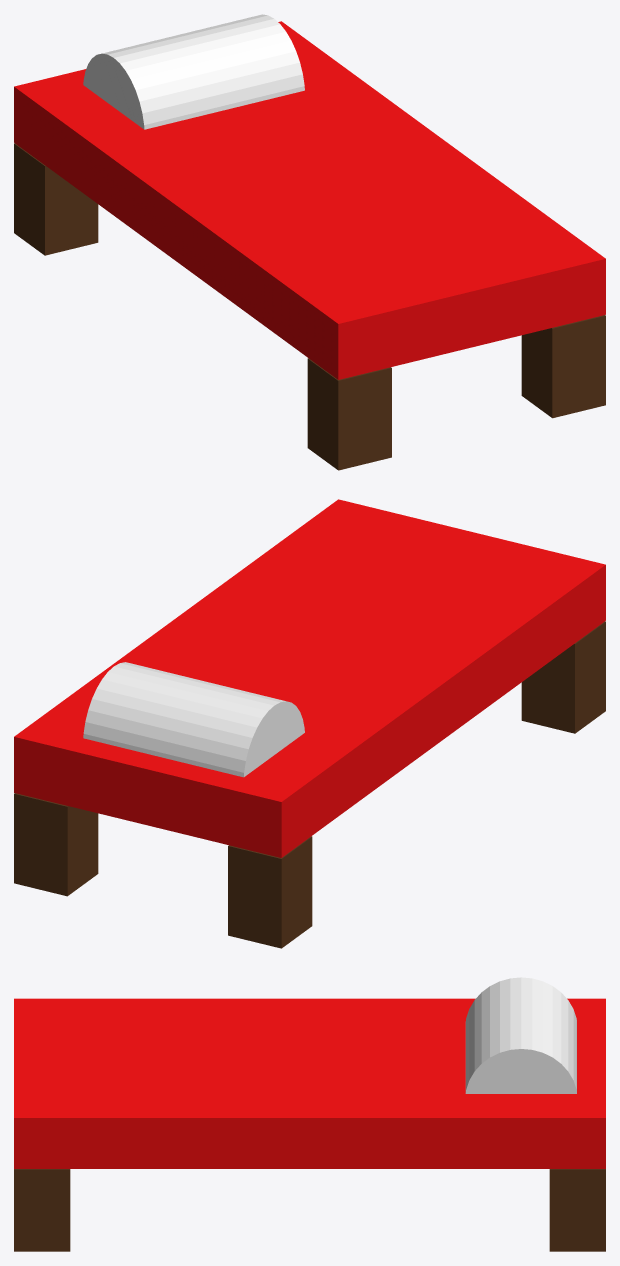
The model's file is House_Interior.gltf.
3 renders of one model, top to bottom at view 1: azimuth 30°, elevation 25°; view 2: azimuth 150°, elevation 25°; view 3: azimuth 270°, elevation 25°, orthographic. The views are drawn at different scales.
Parts seen in each view (by area): view 1: Matress, BedLegs, Pillow; view 2: Matress, BedLegs, Pillow; view 3: Matress, Pillow, BedLegs.
Part boxes in pixels (box(x1,y1,x2,y2)): Matress: box(14, 21, 605, 379); BedLegs: box(14, 143, 605, 470); Pillow: box(83, 14, 304, 129); Matress: box(14, 499, 605, 857); BedLegs: box(14, 621, 605, 948); Pillow: box(83, 662, 304, 777); Matress: box(14, 998, 605, 1168); Pillow: box(465, 977, 576, 1093); BedLegs: box(14, 1169, 605, 1251).
Size of what is drawn, in the model's own units: 5 by 3.5 by 10.5.
Materials: 3 (3 with a texture image).
